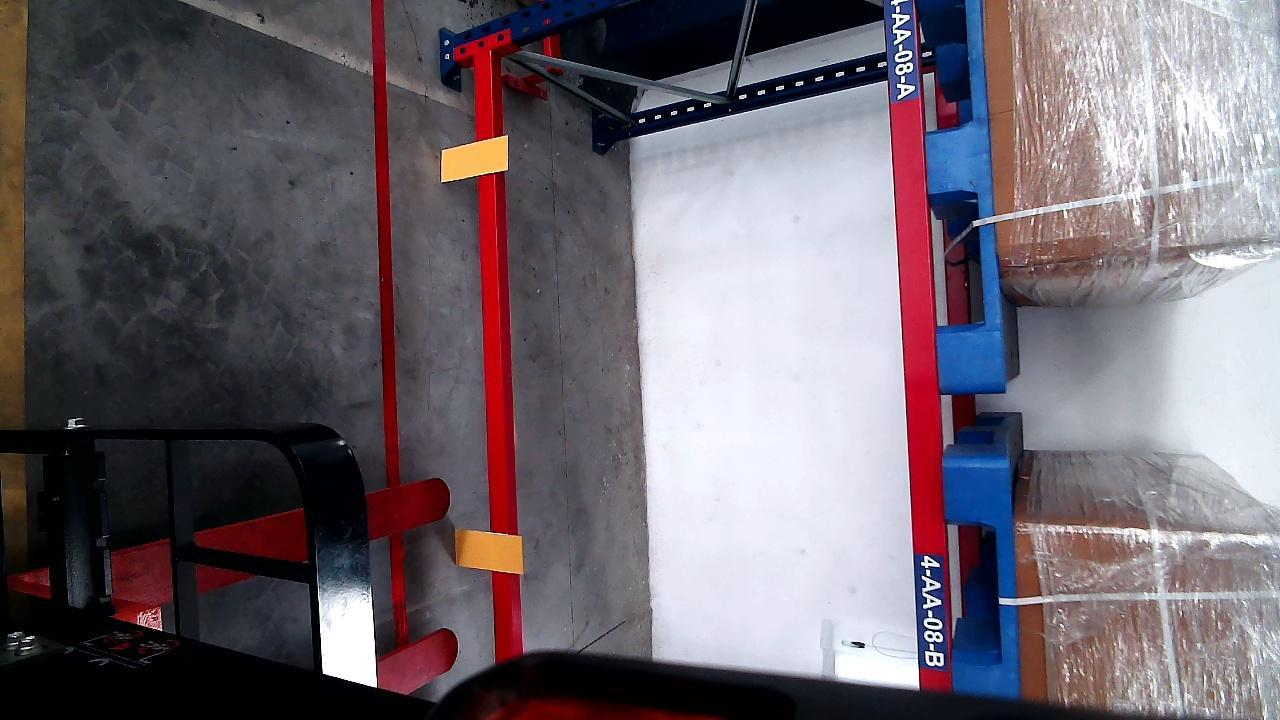red_line: (371, 0, 405, 653)
yellow_line: (2, 0, 30, 432)
